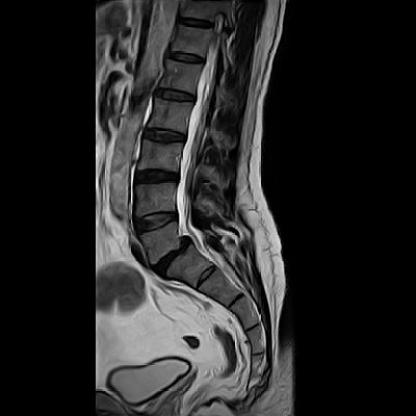Disc Bulgerotation: (149, 244, 200, 270), (133, 209, 181, 235), (136, 167, 180, 187)
